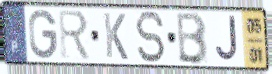B: (176, 11, 210, 66)
G: (27, 8, 58, 61)
J: (214, 14, 240, 64)
K: (102, 11, 130, 62)
R: (57, 9, 93, 63)
S: (134, 10, 167, 65)
